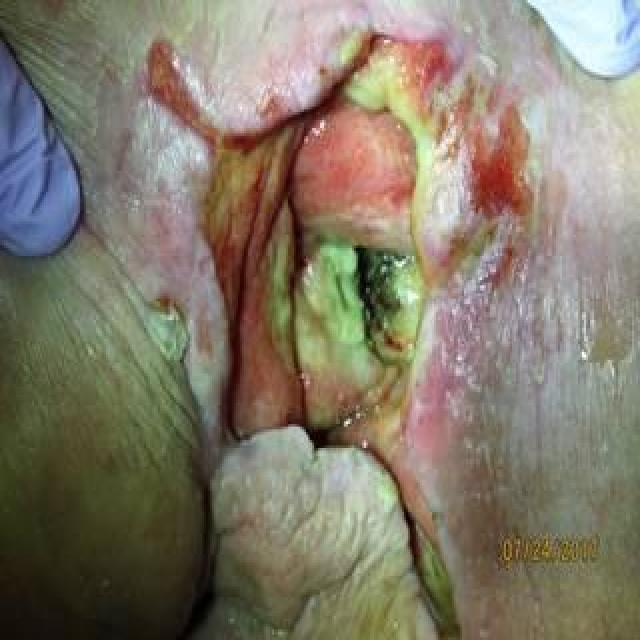stage-4: (149, 37, 531, 634)
